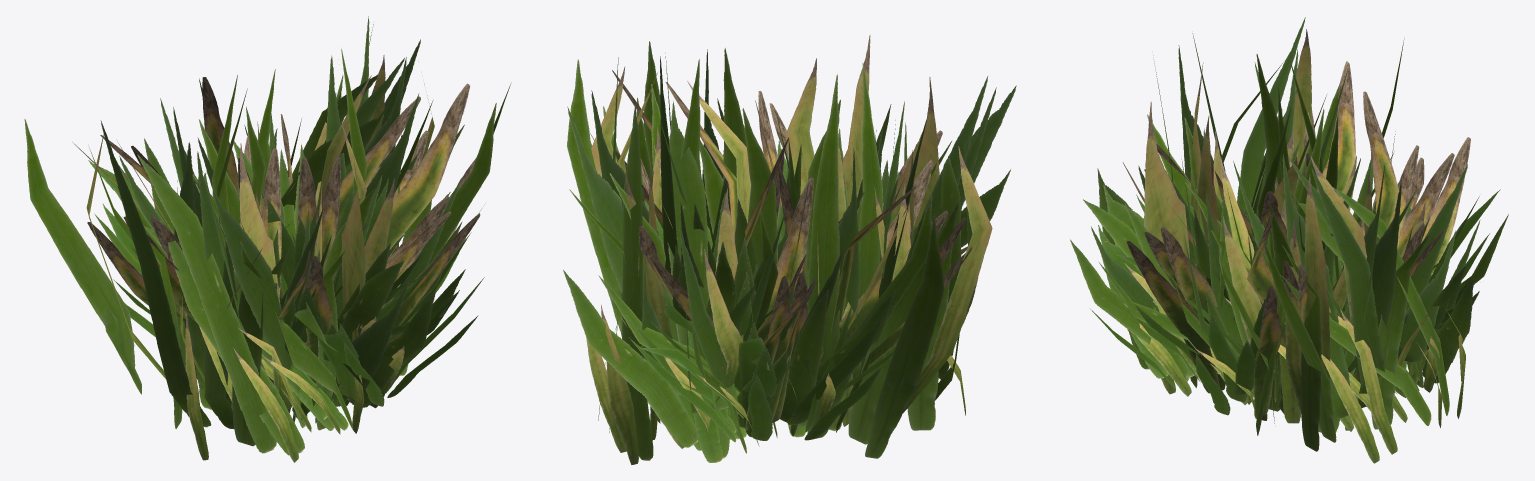
The model's file is grassvar.glb.
3 views of the same model, side by side, from view 1: azimuth 30°, elevation 25°; view 2: azimuth 150°, elevation 25°; view 3: azimuth 270°, elevation 25° (orthographic). The views are drawn at different scales.
Parts seen in each view (by area): view 1: grassclump_1, grassclump_2, grassclump_3, grassclump_0; view 2: grassclump_1, grassclump_2, grassclump_0, grassclump_3; view 3: grassclump_1, grassclump_2, grassclump_3, grassclump_0.
Boxes of the visible parts, x1,y1,x2,y2 form: grassclump_1: (87, 16, 484, 462); grassclump_2: (24, 39, 511, 453); grassclump_3: (116, 139, 422, 407); grassclump_0: (243, 144, 388, 307); grassclump_1: (563, 35, 1010, 452); grassclump_2: (567, 41, 1016, 464); grassclump_0: (660, 137, 813, 437); grassclump_3: (616, 159, 933, 439); grassclump_1: (1070, 33, 1508, 463); grassclump_2: (1083, 17, 1500, 454); grassclump_3: (1124, 142, 1454, 431); grassclump_0: (1210, 153, 1408, 430).
Bounding box in the file's own units: 0.8328 × 0.643 × 0.8134.
1 material, 1 textured.
